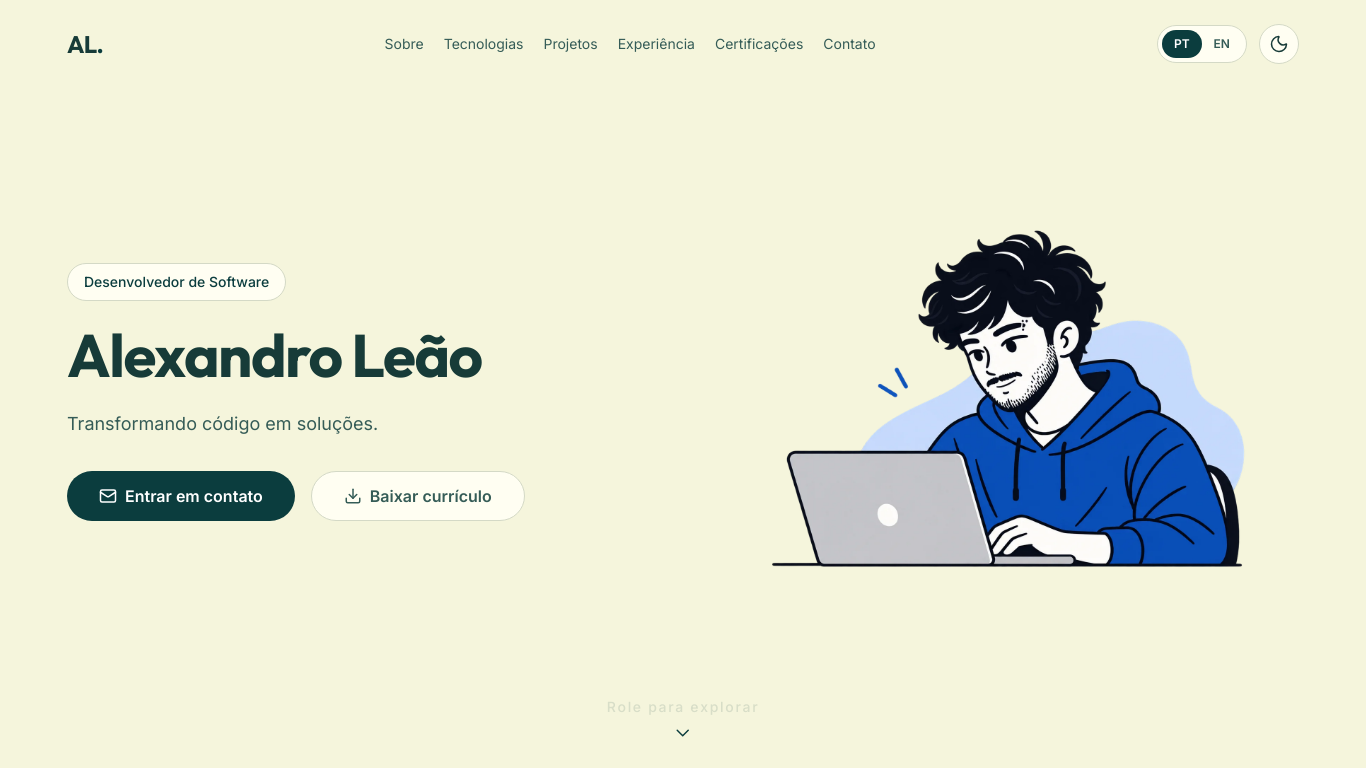
Test: Developer Portfolio › provides the English resume download
Click the button "EN" at (1222,44), box [1202,30,1242,58]
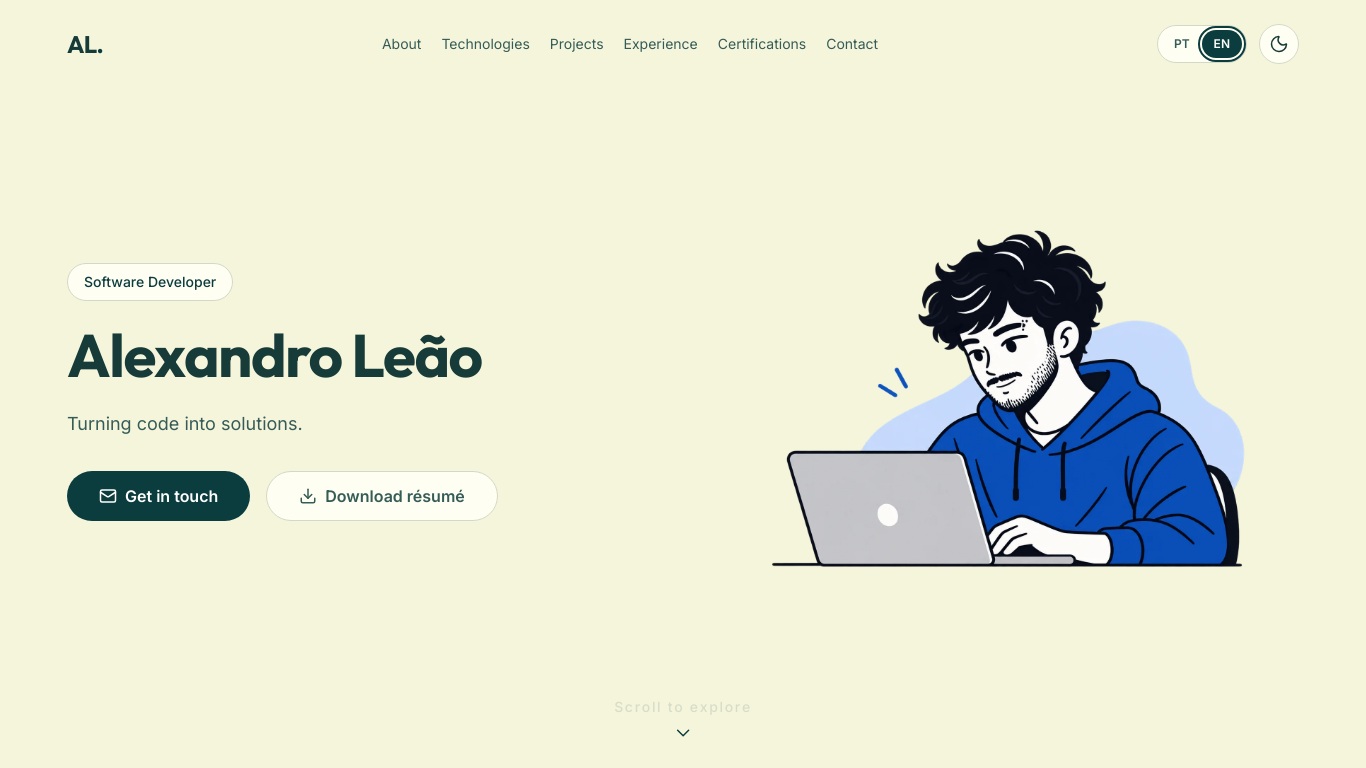
Expected: the link with aria-label "Download résumé as PDF" reads "Download résumé", [266,471,498,521]
